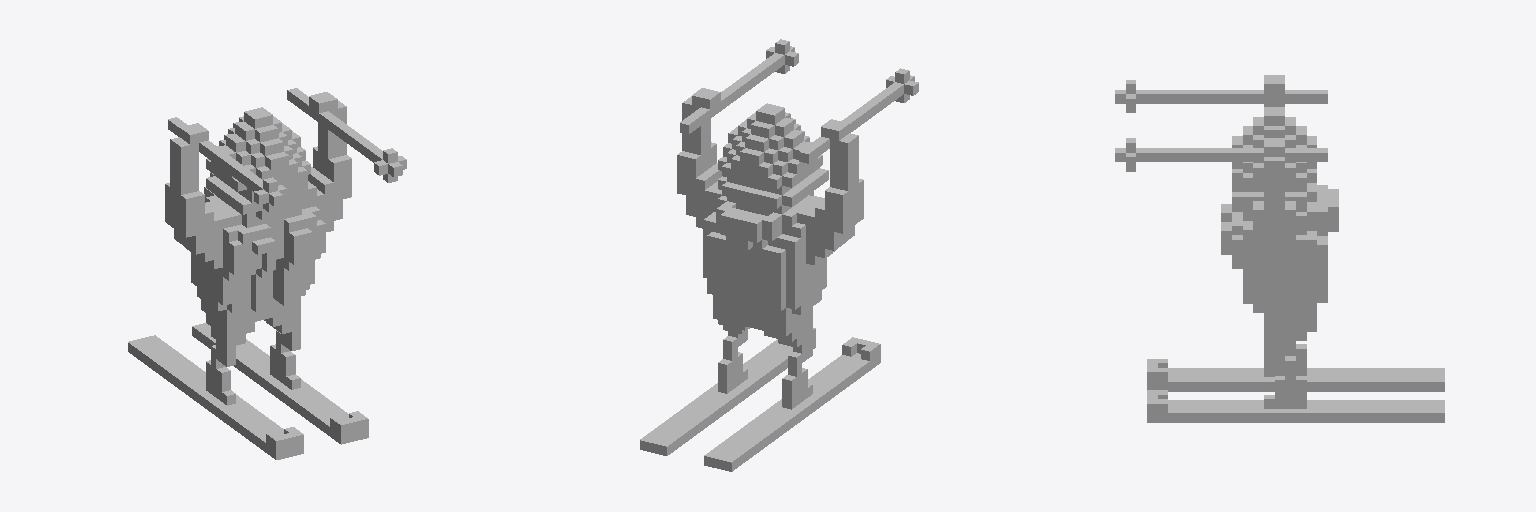
Rendered from Skieur_Arrivée_Frame_06.obj.
The picture shows the model from 3 angles: view 1: azimuth 30°, elevation 25°; view 2: azimuth 150°, elevation 25°; view 3: azimuth 270°, elevation 25°; orthographic projection.
Size of the model in its own units: 18 by 30 by 31.